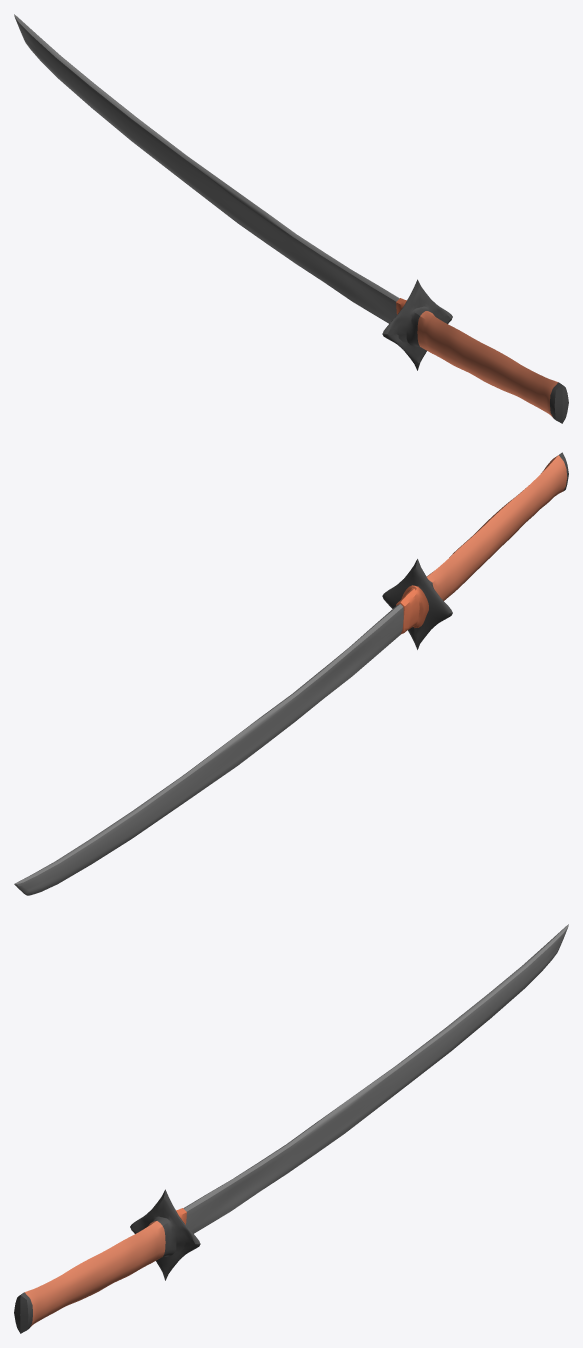
Rendered from new-sword.fbx.
3 renders of one model, top to bottom at view 1: azimuth 30°, elevation 25°; view 2: azimuth 150°, elevation 25°; view 3: azimuth 330°, elevation 25°, orthographic.
Visible parts, largest first — view 1: Sword; view 2: Sword; view 3: Sword.
Part boxes in pixels (bbox=[...]): Sword: bbox=[14, 14, 568, 423]; Sword: bbox=[14, 452, 568, 895]; Sword: bbox=[14, 924, 568, 1333].
Size of the model in its own units: 10.75 by 13.42 by 145.
